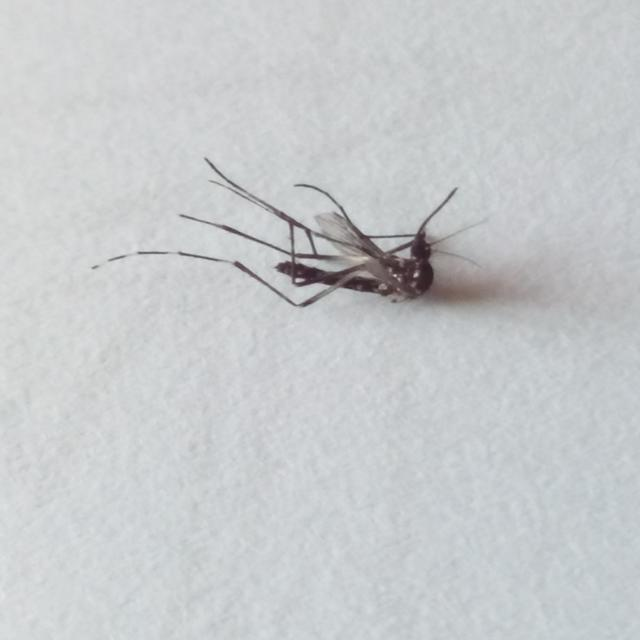albopictus: (88, 150, 488, 322)
